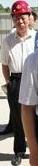boots: (0, 124, 13, 135), (0, 129, 8, 137)
hard-hat: (0, 0, 19, 24)
